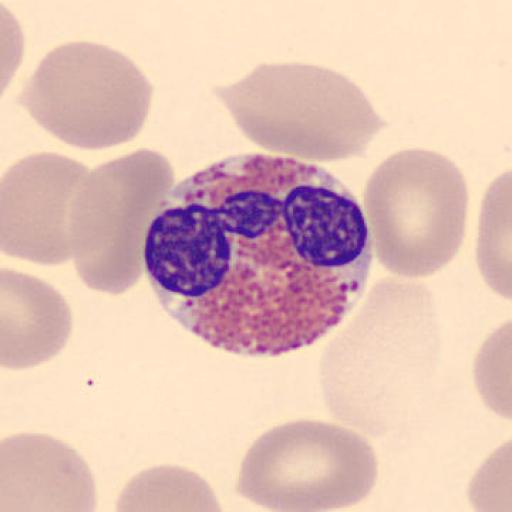RBC: (319, 278, 446, 437), (217, 59, 383, 164), (68, 148, 177, 296), (20, 40, 155, 152), (361, 146, 470, 281), (237, 417, 380, 512), (2, 150, 92, 267), (2, 430, 98, 512), (1, 265, 74, 371), (113, 462, 224, 512), (475, 166, 512, 305), (472, 316, 512, 424), (466, 437, 512, 512), (0, 2, 24, 105)
WBC: (142, 150, 374, 358)
